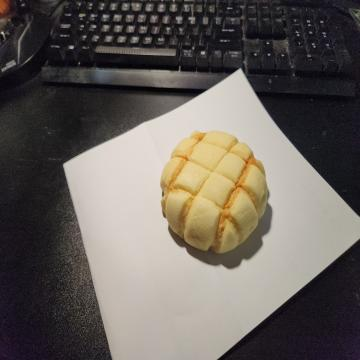melon_bread: (160, 130, 268, 254)
